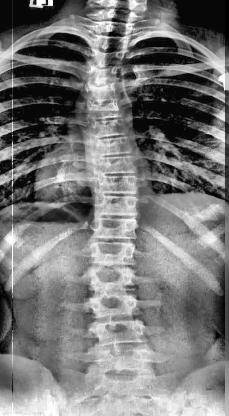Vertebrae: (82, 292, 138, 320), (87, 323, 147, 345), (90, 240, 139, 264), (86, 264, 134, 288), (90, 176, 144, 197), (89, 154, 140, 176), (96, 194, 142, 216), (88, 136, 134, 158), (96, 219, 144, 239), (85, 118, 131, 138), (81, 67, 119, 89), (84, 85, 124, 103), (90, 49, 122, 71), (84, 102, 126, 118), (97, 21, 131, 38), (98, 34, 128, 51)
